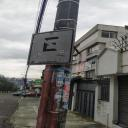NoEstacionar: (26, 29, 73, 68)
